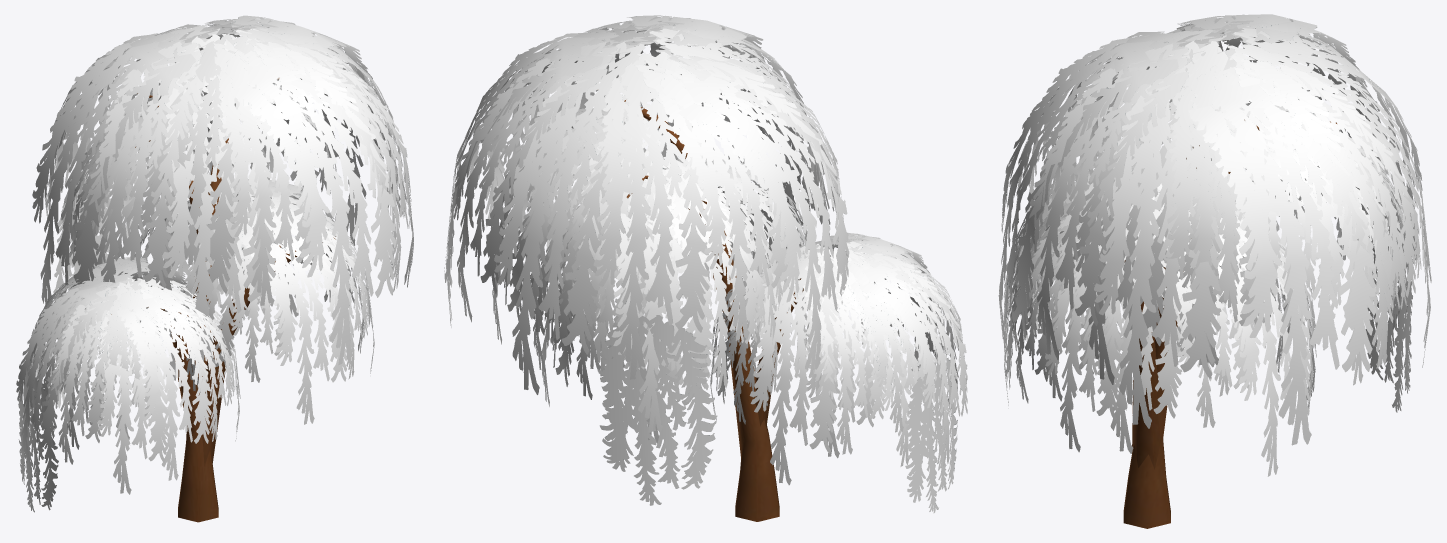
File: STWillow1.glb
The picture shows the model from 3 angles, left to right: view 1: azimuth 30°, elevation 25°; view 2: azimuth 150°, elevation 25°; view 3: azimuth 270°, elevation 25°; orthographic projection. The views are drawn at different scales.
Parts seen in each view (by area): view 1: WillowTree1; view 2: WillowTree1; view 3: WillowTree1.
Part boxes in pixels (<box>): WillowTree1: <box>16,15,413,522</box>; WillowTree1: <box>444,15,967,521</box>; WillowTree1: <box>998,14,1431,528</box>.
Size of the model in its own units: 13.7 by 14.19 by 10.82.
Materials: 2 (2 with a texture image).
